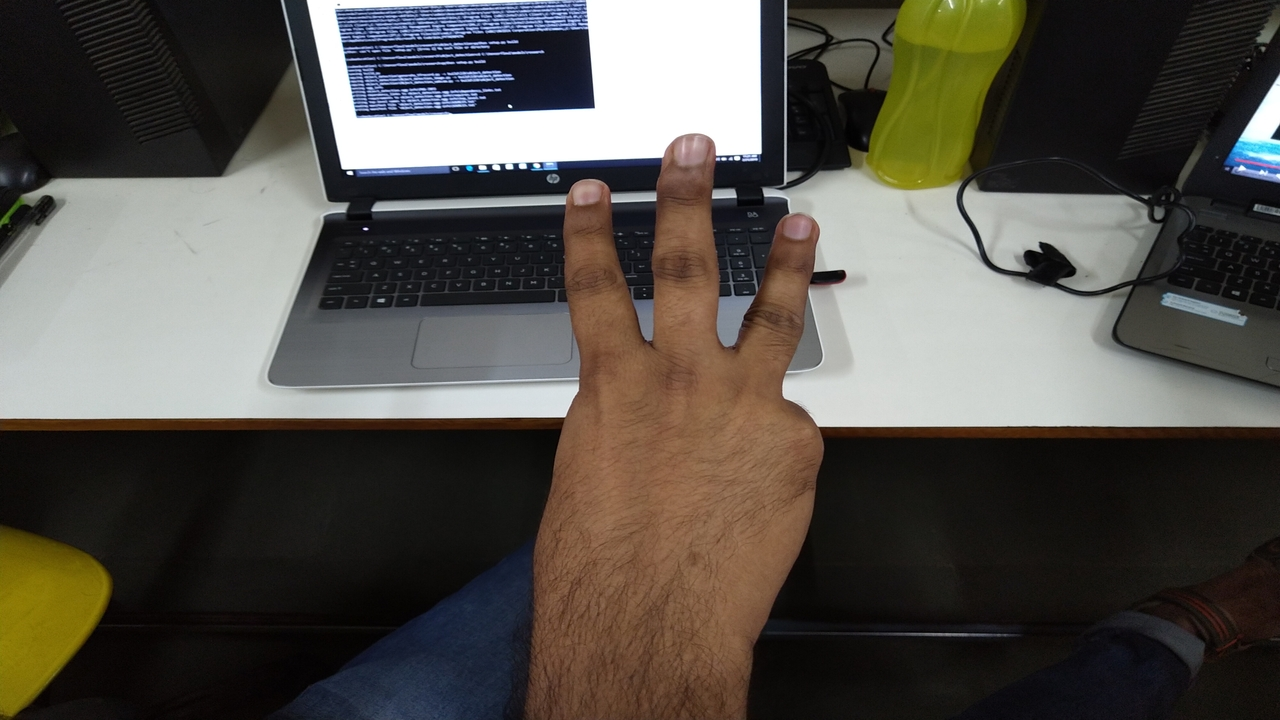fingertip: (556, 170, 616, 224), (772, 202, 828, 254), (656, 130, 714, 180)
